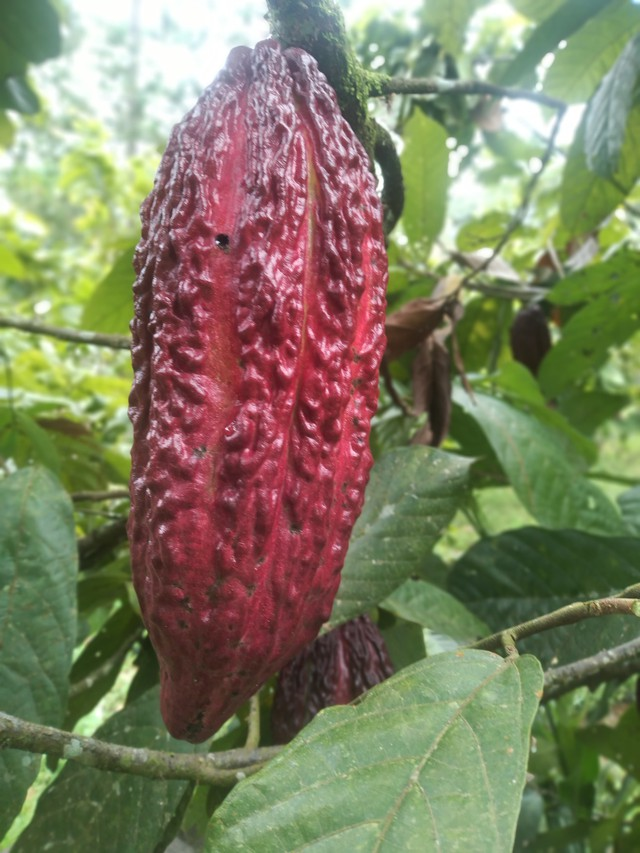carmenta foraseminis: (122, 37, 392, 746)
